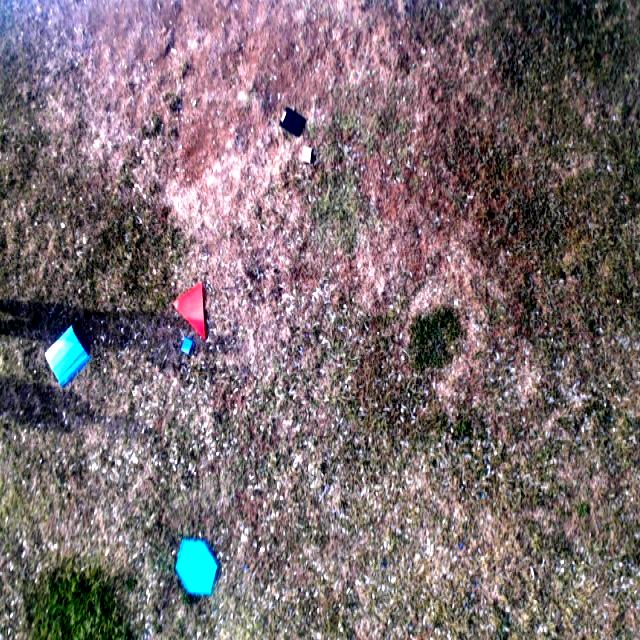blue_hexagon: (176, 540, 218, 598)
blue_square: (44, 324, 90, 389)
red_triangle: (173, 282, 205, 342)
